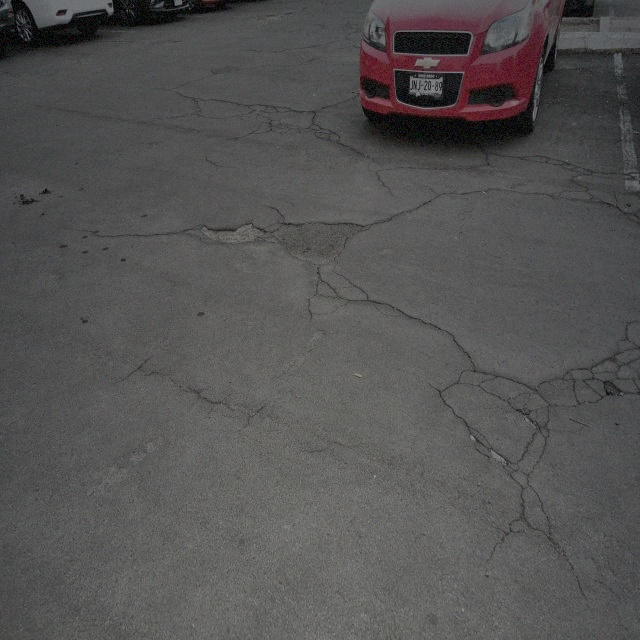pothole: (190, 218, 269, 248)
